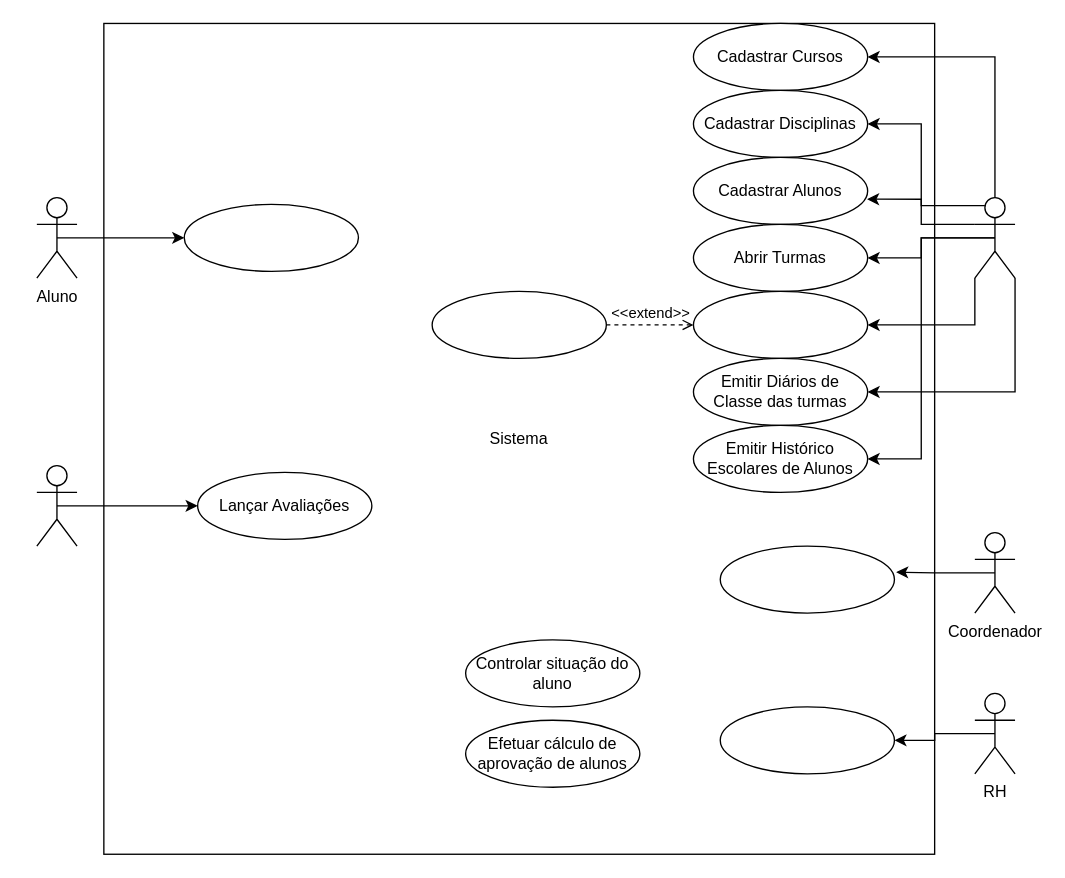
The diagram is 1065 pixels wide and 878 high, and some of its shapes have lost their labels. Here are the shapes that lost their labels. From the top down, the centre of each, then its label:
(x=270, y=237): Consultar Avaliações
(x=994, y=237): Secretaria
(x=518, y=324): Exibir "Aluno já está matriculado na turma"
(x=780, y=324): Matricular alunos em turmas
(x=56, y=505): Professor
(x=806, y=579): Alocar Professores a Turmas
(x=806, y=740): Cadastrar Professores
